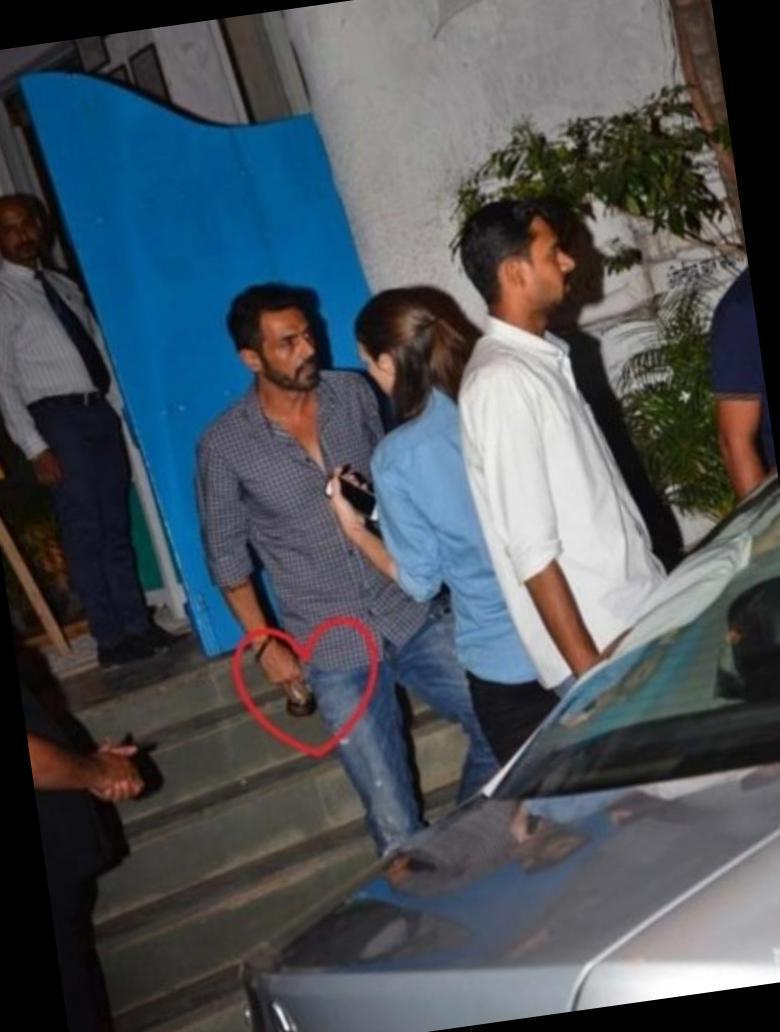Drunk: (256, 308, 327, 391)
